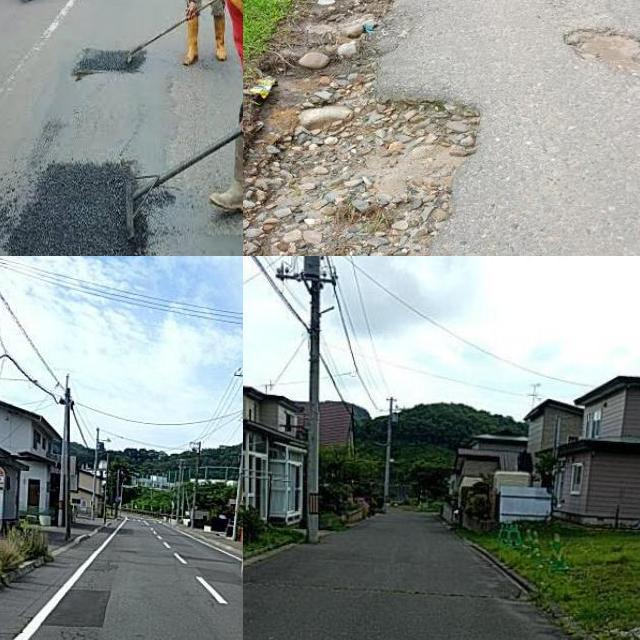Lubang: (555, 25, 640, 75)
Pinggir: (243, 0, 494, 256)
Sambungan: (7, 159, 150, 256), (43, 588, 114, 625)
